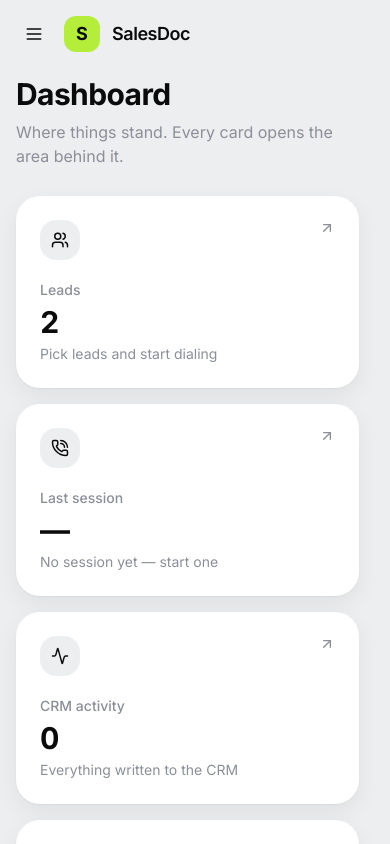
it: mobile navigation › closes the menu after navigating, so the page is not left underneath it
Expected: the heading "Dashboard" is shown, [16,76,171,112]
Click the button named "open menu". click: (34, 34)
box: [16,16,52,52]
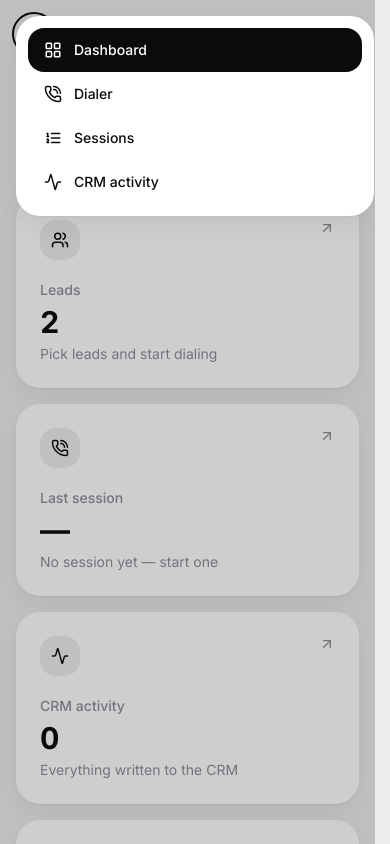
Click the link "Sessions". click: (89, 138)
box: [44,129,134,147]
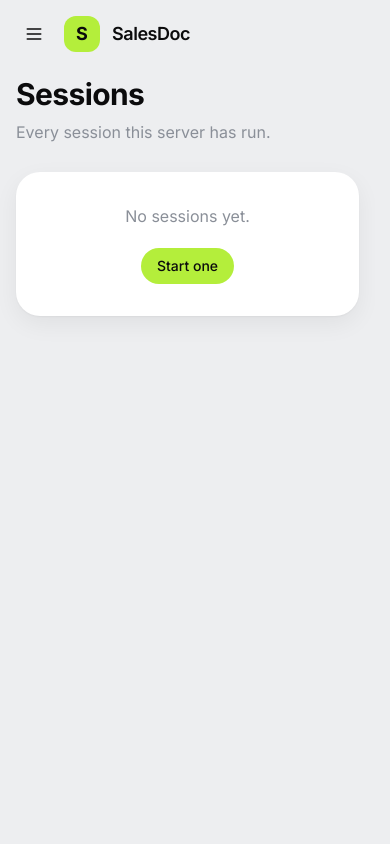
Expected: the dialog "close menu" is gone
